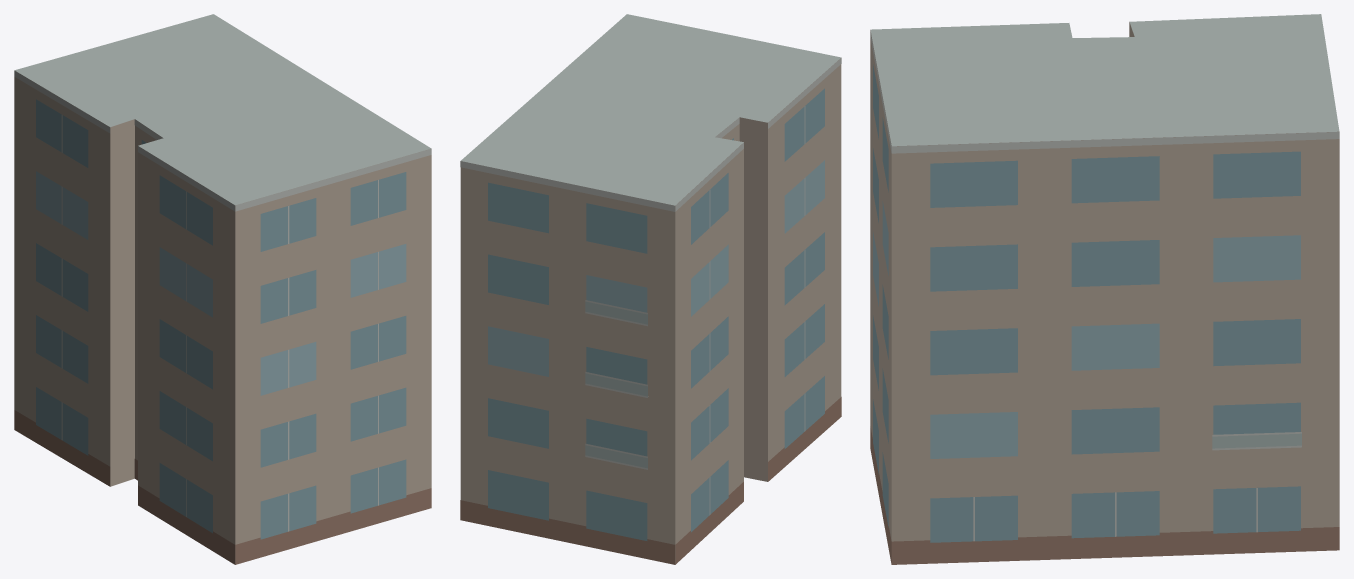
The model's file is survey-upis-32745929.glb.
3 views of the same model, side by side, from view 1: azimuth 30°, elevation 25°; view 2: azimuth 150°, elevation 25°; view 3: azimuth 270°, elevation 25° (orthographic). The views are drawn at different scales.
Visible parts, largest first — view 1: survey-upis-32745929.tmp; view 2: survey-upis-32745929.tmp; view 3: survey-upis-32745929.tmp.
Boxes of the visible parts, box(x1,y1,x2,y2) form: survey-upis-32745929.tmp: box(14, 14, 431, 564); survey-upis-32745929.tmp: box(460, 14, 841, 564); survey-upis-32745929.tmp: box(870, 14, 1339, 564).
Size of the model in its own units: 9.43 by 13.9 by 14.13.
